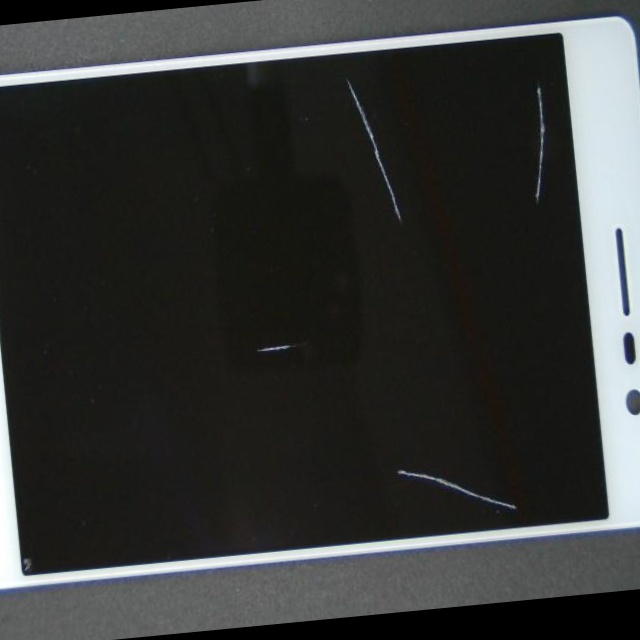scratch: (151, 177, 640, 632), (99, 168, 512, 539), (161, 87, 640, 377), (234, 39, 640, 173)
